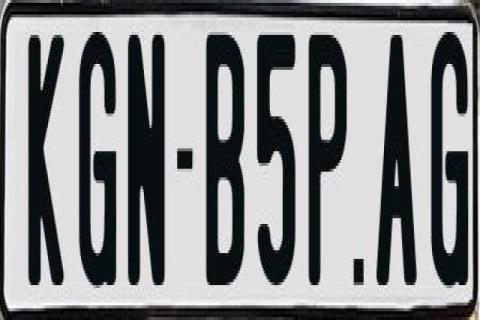0: (255, 26, 292, 294)
A: (374, 32, 416, 300)
B: (206, 29, 248, 294)
G: (78, 24, 118, 294), (429, 23, 462, 291)
K: (25, 29, 63, 285)
N: (128, 35, 166, 303)
P: (306, 35, 344, 297)
